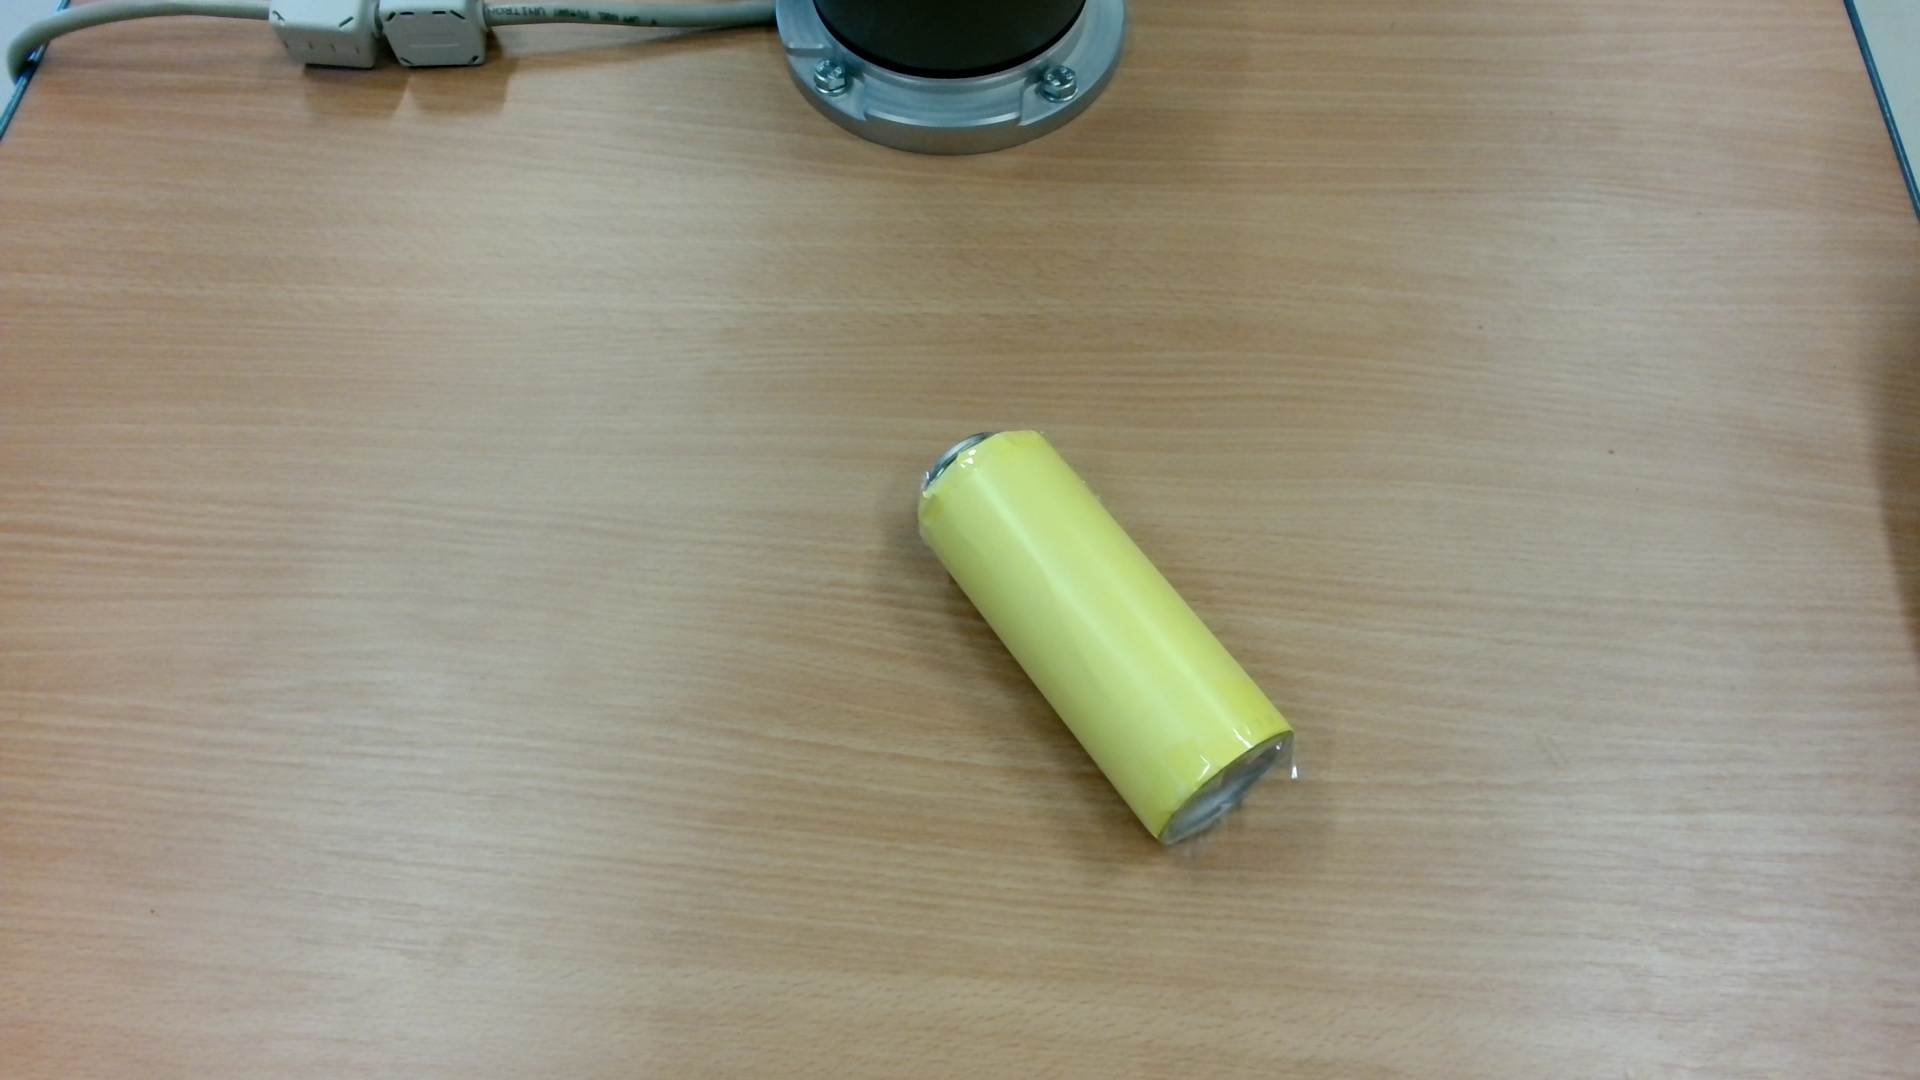Cylinder: (906, 425, 1309, 862)
